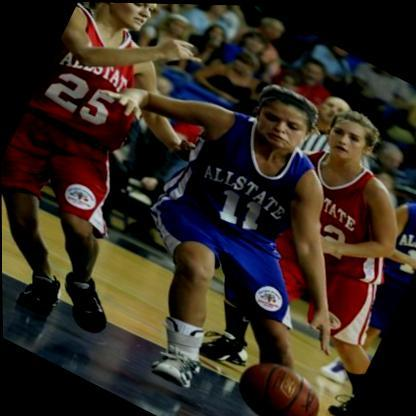basketball: (228, 347, 330, 416)
